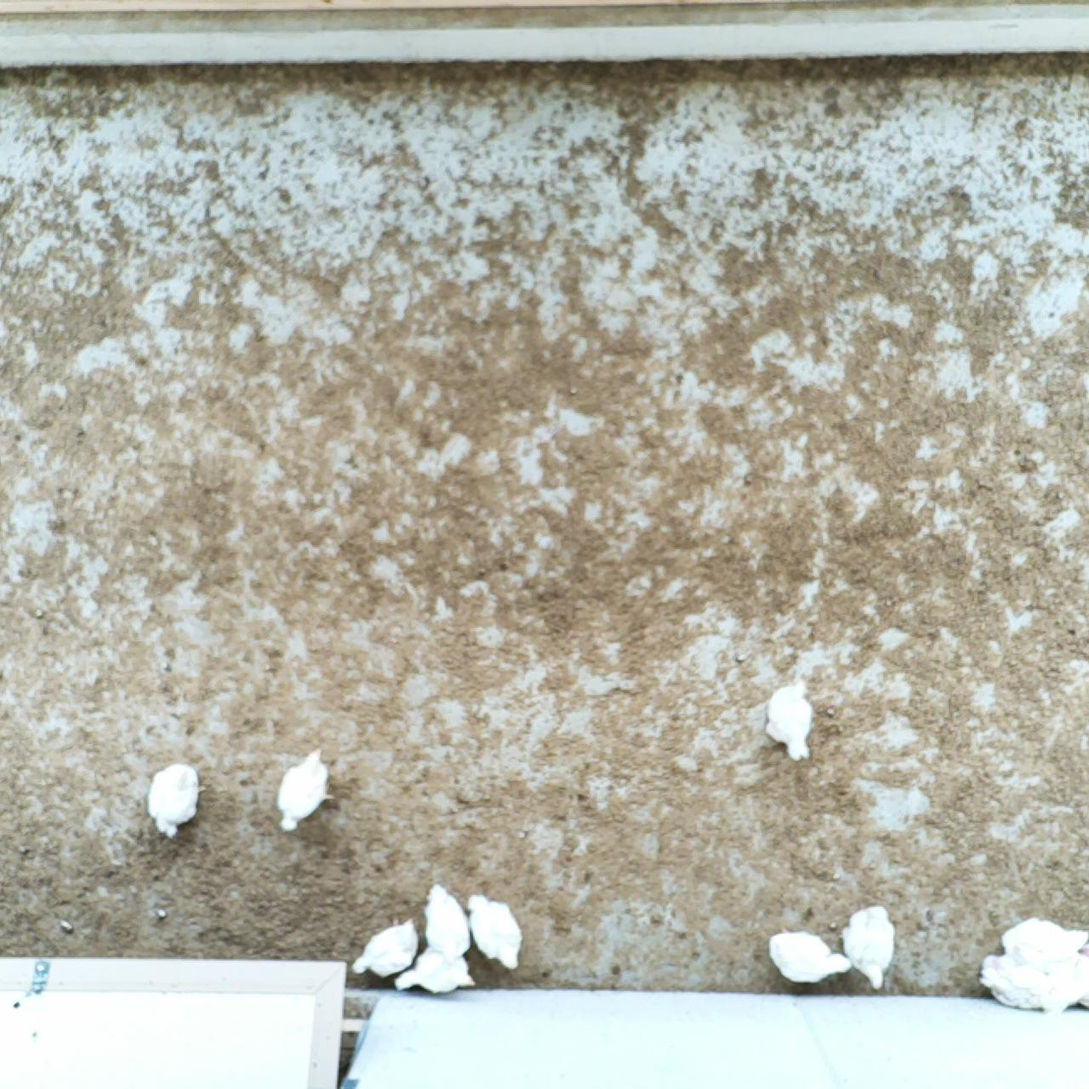chicken: (835, 901, 898, 996), (275, 745, 338, 838), (767, 924, 854, 988), (976, 947, 1052, 1015), (465, 890, 527, 973), (146, 758, 208, 841), (996, 915, 1089, 970), (763, 676, 820, 765), (393, 940, 480, 997), (349, 916, 421, 979), (419, 882, 473, 963), (1036, 955, 1089, 1018)
